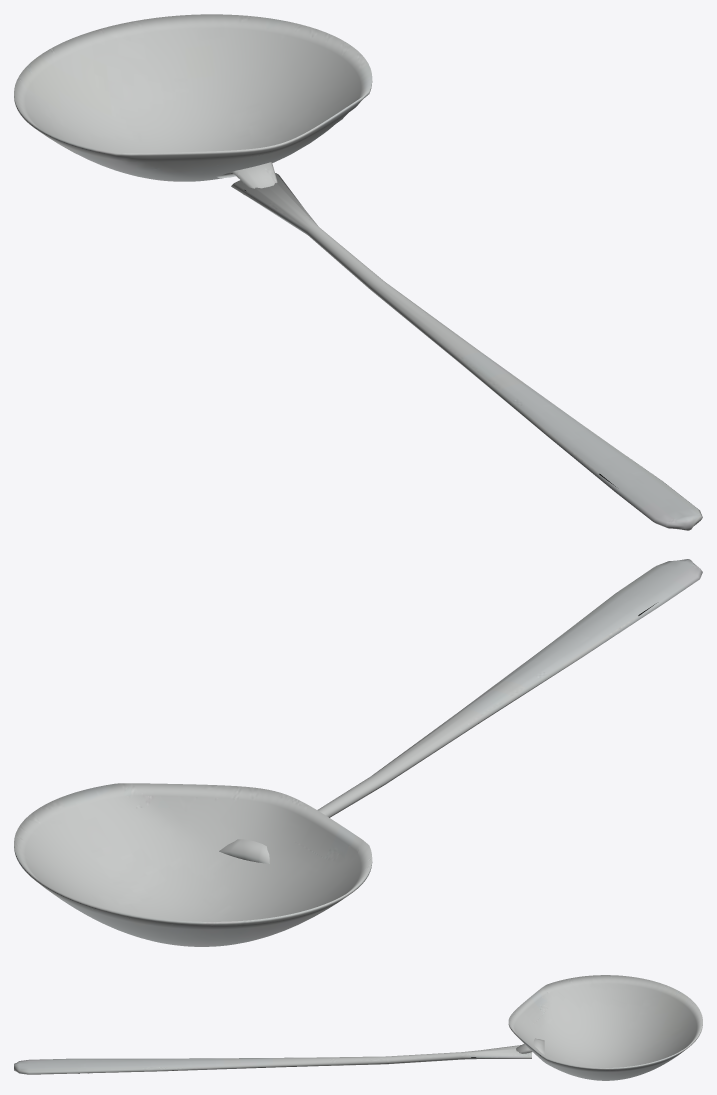
3 views of the same model, one above another, from view 1: azimuth 30°, elevation 25°; view 2: azimuth 150°, elevation 25°; view 3: azimuth 270°, elevation 25° (orthographic). The views are drawn at different scales.
Visible parts, largest first — view 1: body; view 2: body; view 3: body.
Boxes of the visible parts, x1,y1,x2,y2 form: body: (14, 14, 702, 530); body: (14, 559, 702, 946); body: (14, 975, 702, 1080).
Size of the model in its own units: 0.0879 by 0.0216 by 0.2754.
1 material, 1 textured.
